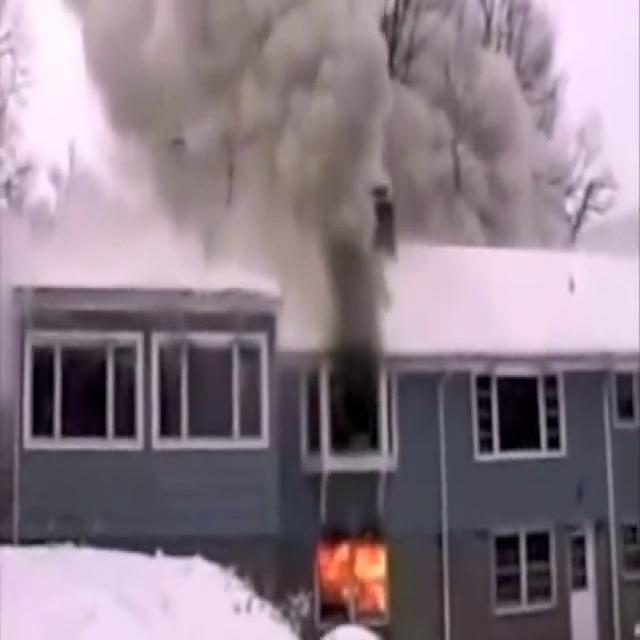Fire: (313, 518, 402, 625)
Smoke: (16, 0, 578, 297)
